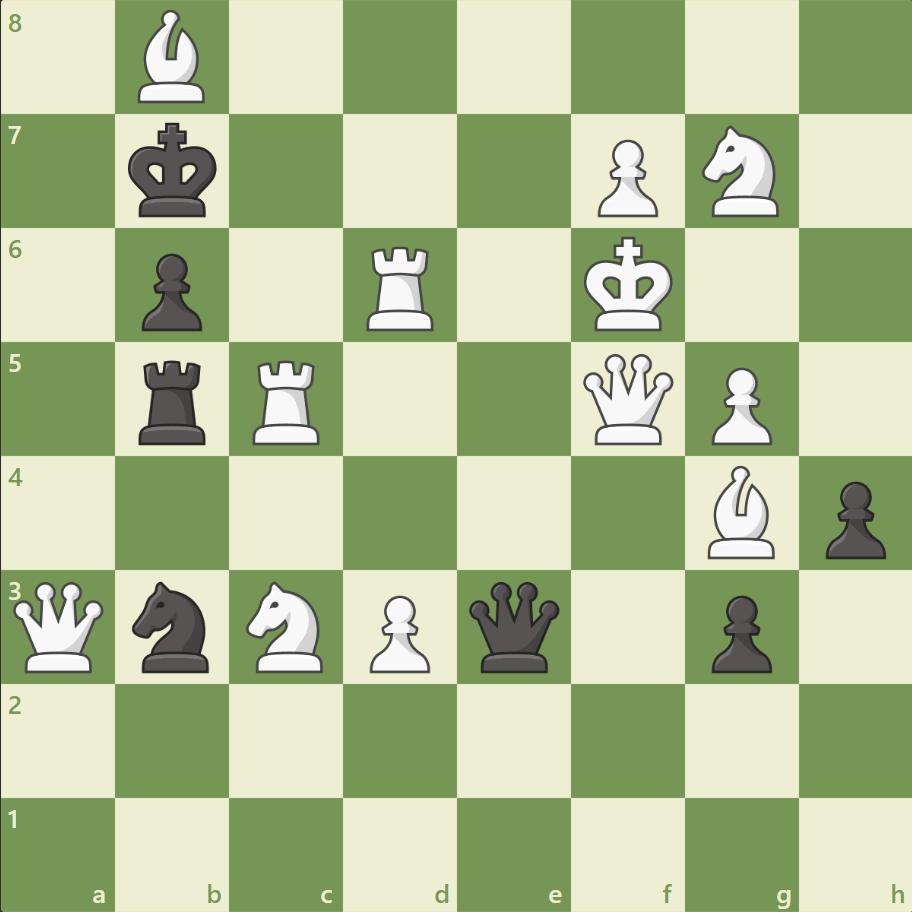B: (131, 6, 215, 109), (698, 460, 782, 563)
K: (579, 231, 679, 339)
N: (692, 121, 789, 223), (238, 575, 335, 677)
P: (701, 359, 776, 450), (588, 132, 662, 223), (361, 586, 435, 677)
Q: (578, 349, 677, 449), (10, 576, 109, 676)
R: (246, 352, 329, 449), (360, 239, 442, 336)
k: (124, 117, 224, 225)
n: (124, 575, 222, 677)
p: (133, 246, 208, 337), (701, 586, 776, 677), (815, 473, 889, 564)
q: (464, 576, 563, 676)
r: (133, 352, 215, 449)
